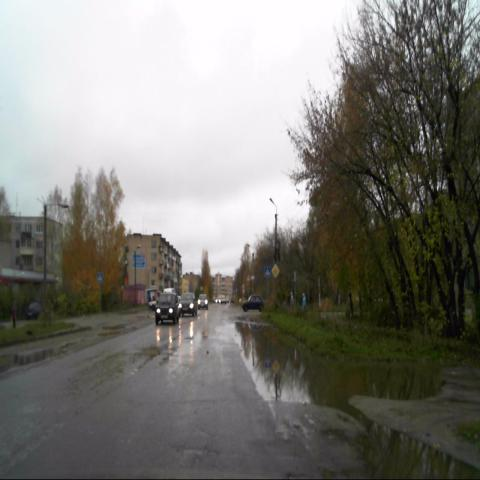2_1: (272, 262, 280, 279)
5_19_1: (264, 265, 271, 278)
